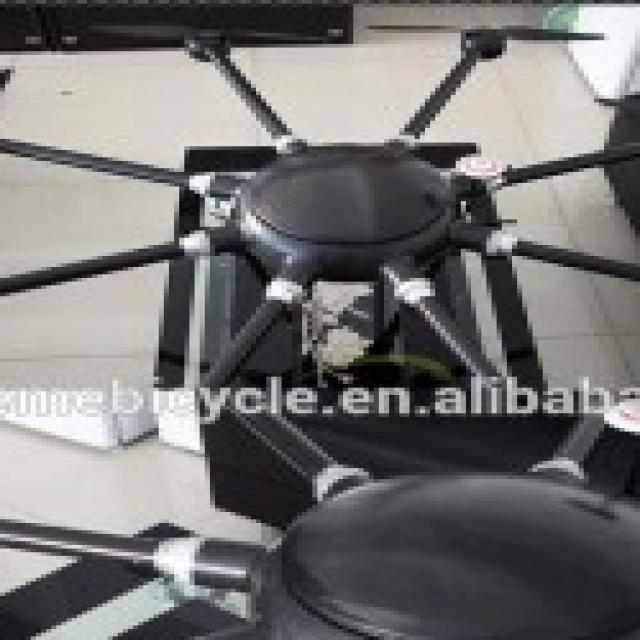drone: (0, 37, 640, 490), (0, 398, 640, 640)
